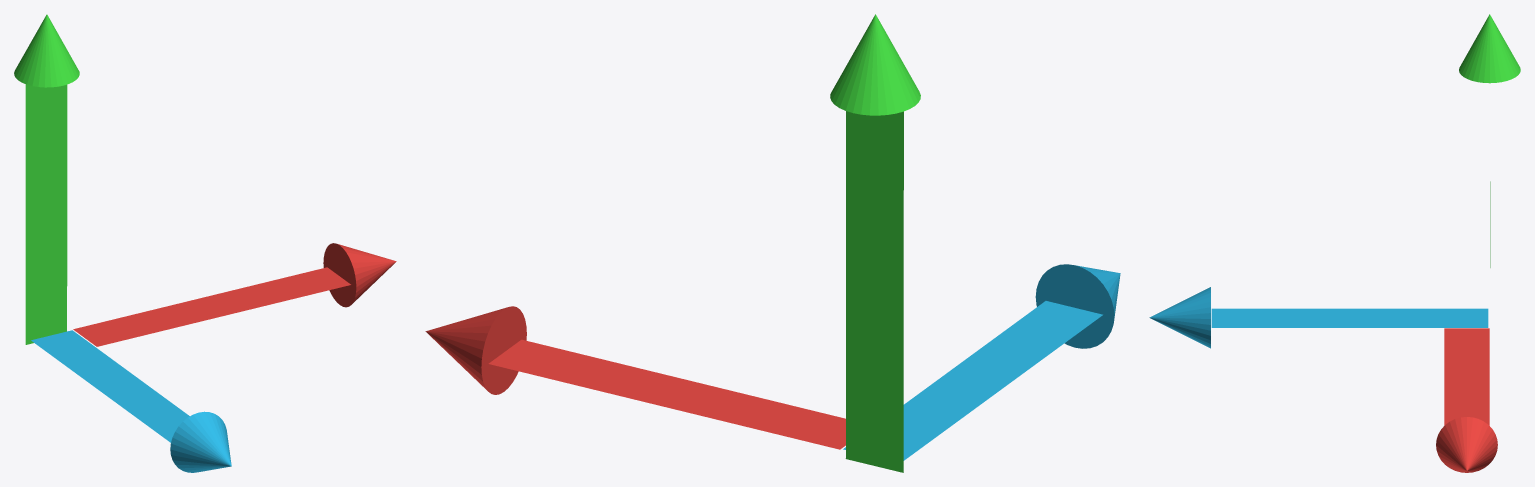
The model's file is translate1.fbx.
The picture shows the model from 3 angles, left to right: view 1: azimuth 30°, elevation 25°; view 2: azimuth 150°, elevation 25°; view 3: azimuth 270°, elevation 25°; orthographic projection. The views are drawn at different scales.
Parts seen in each view (by area): view 1: MoveY, MoveX, MoveZ; view 2: MoveY, MoveX, MoveZ; view 3: MoveZ, MoveX, MoveY.
Part boxes in pixels (x1,y1,x2,y2): MoveY: [14, 14, 79, 344]; MoveX: [73, 243, 396, 346]; MoveZ: [31, 330, 231, 472]; MoveY: [830, 14, 920, 472]; MoveX: [425, 306, 845, 449]; MoveZ: [843, 264, 1120, 460]; MoveZ: [1149, 287, 1488, 348]; MoveX: [1436, 328, 1497, 472]; MoveY: [1459, 14, 1520, 267].
Bounding box in the file's own units: 183 × 167 × 171.
